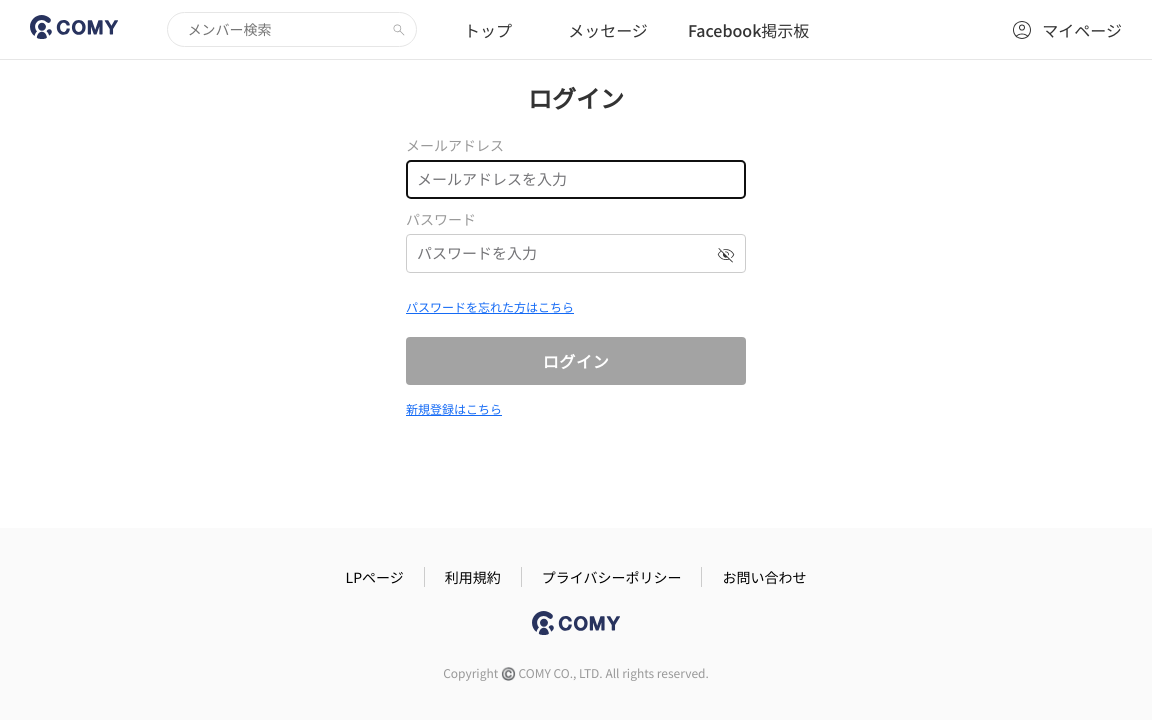
Test: Password Toggle Functionality: › Click the toggle icon and ensure the password is visible (not masked).
This screenshot has width=1152, height=720.
In the password field labelled "パスワード": point(576, 254) [406,234,746,273], type "Hakamaldeen17"
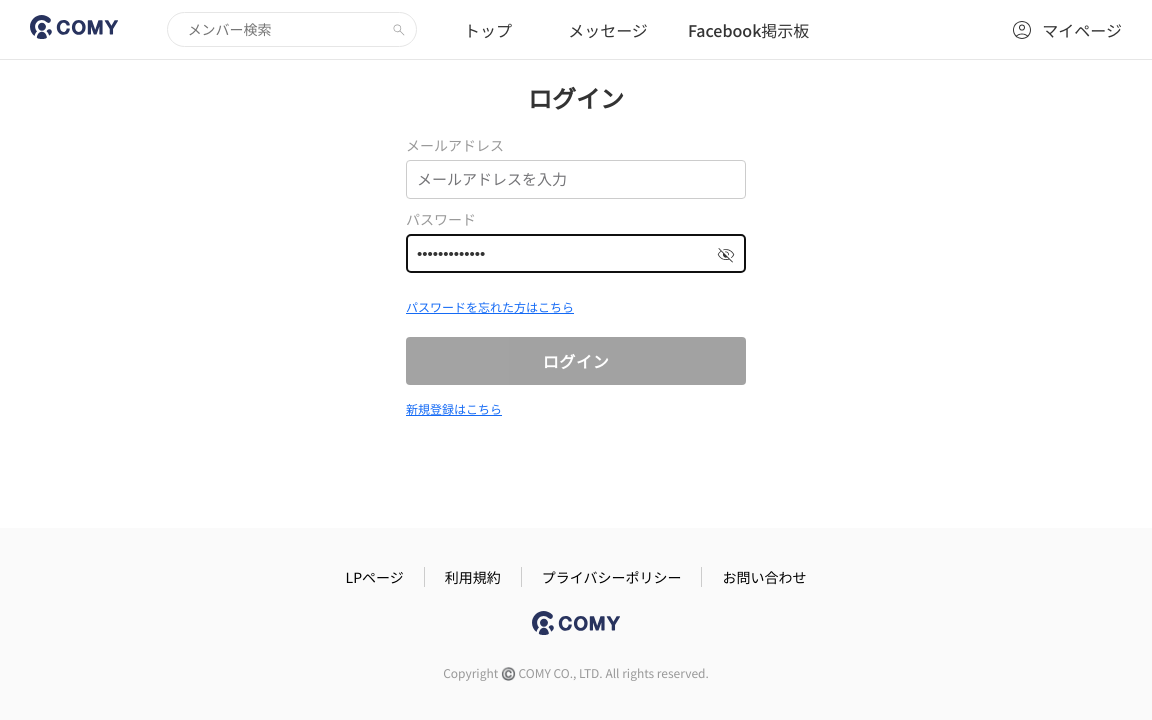
Click the picture named "Toggle visibility": point(726, 255) [716,245,736,265]
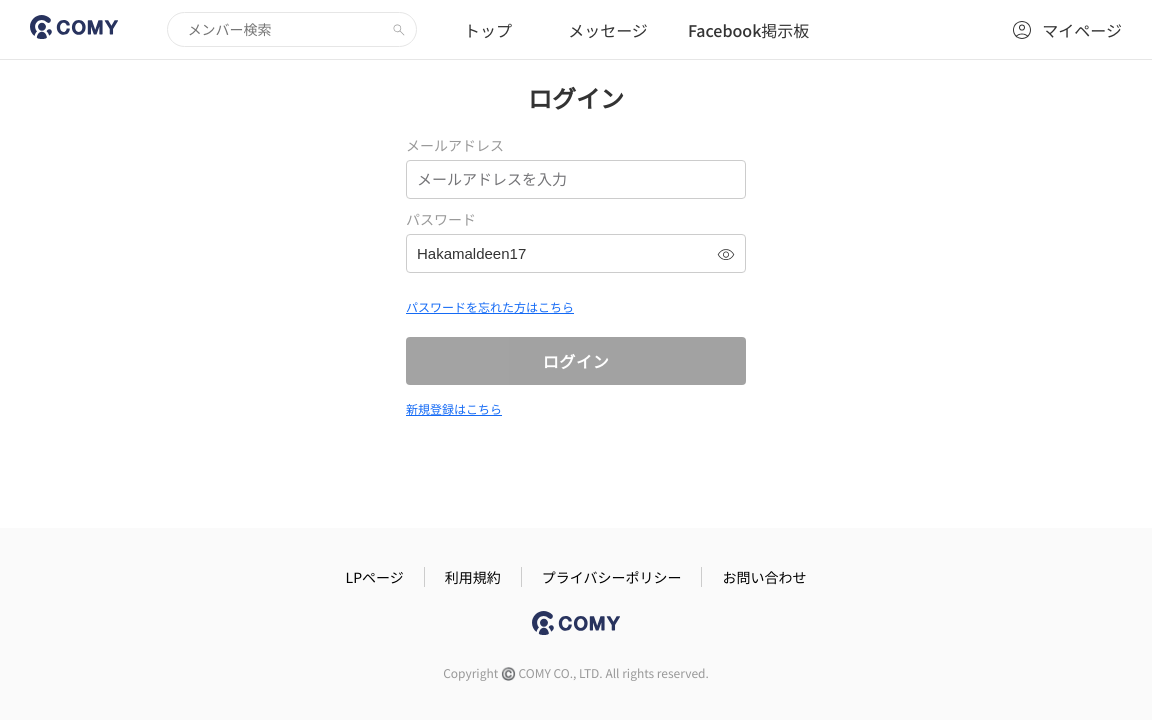
Now the field labelled "パスワード" shows its text, box [406,234,746,273]
